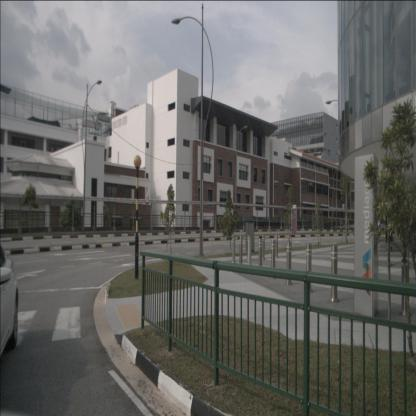human-pedestrian-adult: (384, 208, 394, 252)
vehicle-car: (0, 241, 19, 356)
